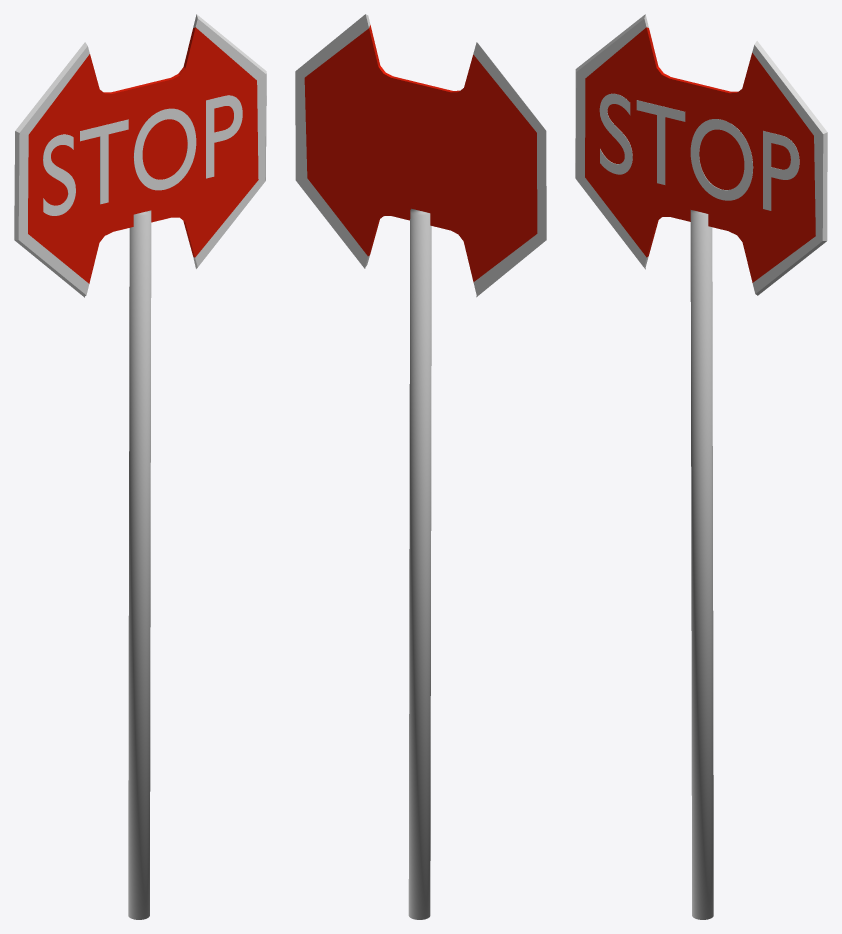
Rendered from stopSignAxe.glb.
3 views of the same model, side by side, from view 1: azimuth 30°, elevation 25°; view 2: azimuth 150°, elevation 25°; view 3: azimuth 330°, elevation 25° (orthographic).
Visible parts, largest first — view 1: Text; view 2: Text; view 3: Text.
Boxes of the visible parts, left/top/right/bottom form: Text: left=14, top=14, right=266, bottom=919; Text: left=295, top=14, right=546, bottom=919; Text: left=575, top=14, right=827, bottom=919.
Size of the model in its own units: 1.19 by 4.01 by 0.1005.
